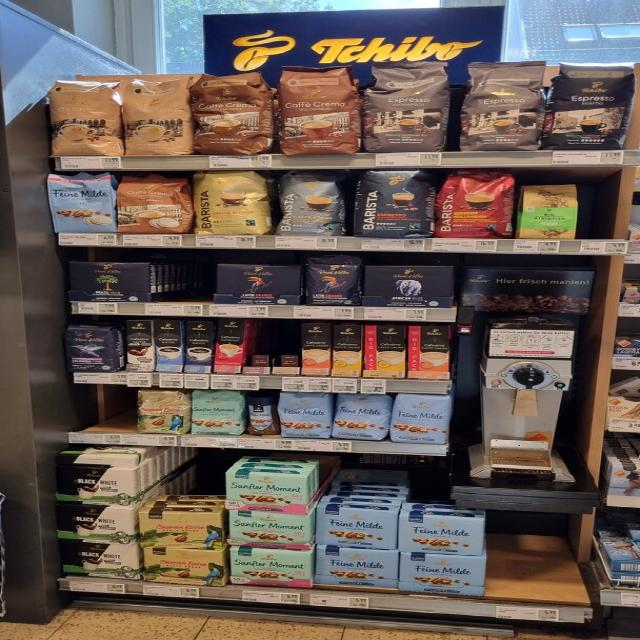AB Gemahlen: (360, 265, 456, 309)
Athiopien Gemahlen: (507, 180, 590, 240)
BM Gemahlen: (65, 261, 154, 302)
BW Gemahlen: (53, 466, 139, 508), (62, 542, 139, 581), (56, 505, 132, 544)
Barista CB: (188, 171, 277, 235)
Barista CC: (268, 171, 355, 236)
Barista Espresso: (348, 168, 444, 239)
Barista Kolumbien: (430, 168, 525, 240)
C Fino Bohne: (63, 322, 125, 373)
CC Mild: (42, 80, 128, 156), (124, 78, 197, 156)
CC Vollmundig: (116, 174, 191, 234)
CC Vollmundig 36 Pads: (271, 67, 361, 153), (193, 75, 278, 155)
Colombia BB Bohne: (130, 389, 190, 436)
Colombia BB Gemahlen: (141, 549, 223, 587), (137, 513, 223, 549)
Empty Shelf: (485, 510, 598, 603), (152, 251, 217, 302), (72, 386, 137, 434)
Espresso Aromatisch: (451, 58, 555, 153), (360, 59, 459, 152)
Espresso Kraftig: (542, 58, 638, 151)
FM 36 Pads: (47, 172, 119, 234)
FM Bohne: (388, 393, 453, 445), (331, 393, 393, 441), (279, 391, 334, 440)
FM Gemahlen: (397, 552, 488, 597), (314, 545, 400, 589), (397, 514, 485, 556), (316, 507, 399, 551)
FM Instant: (245, 394, 280, 437)
LG Bohne: (303, 262, 366, 306)
LG Gemahlen: (209, 263, 306, 306)
SM Bohne: (187, 389, 248, 435)
SM Gemahlen: (224, 473, 311, 515), (225, 510, 312, 551), (230, 546, 313, 588)
Simo CCMild: (363, 325, 407, 377)
Simo CCMild bigpack: (299, 322, 333, 376)
Simo CCVollmundig: (406, 324, 452, 379)
Simo CCVollmundig bigpack: (331, 324, 365, 377)
Simo Es Caramel: (212, 318, 248, 372)
Simo Es Elegant: (122, 320, 154, 373)
Simo Es Kraft: (183, 320, 217, 374)
Simo Es Vanilla: (154, 320, 185, 373)
